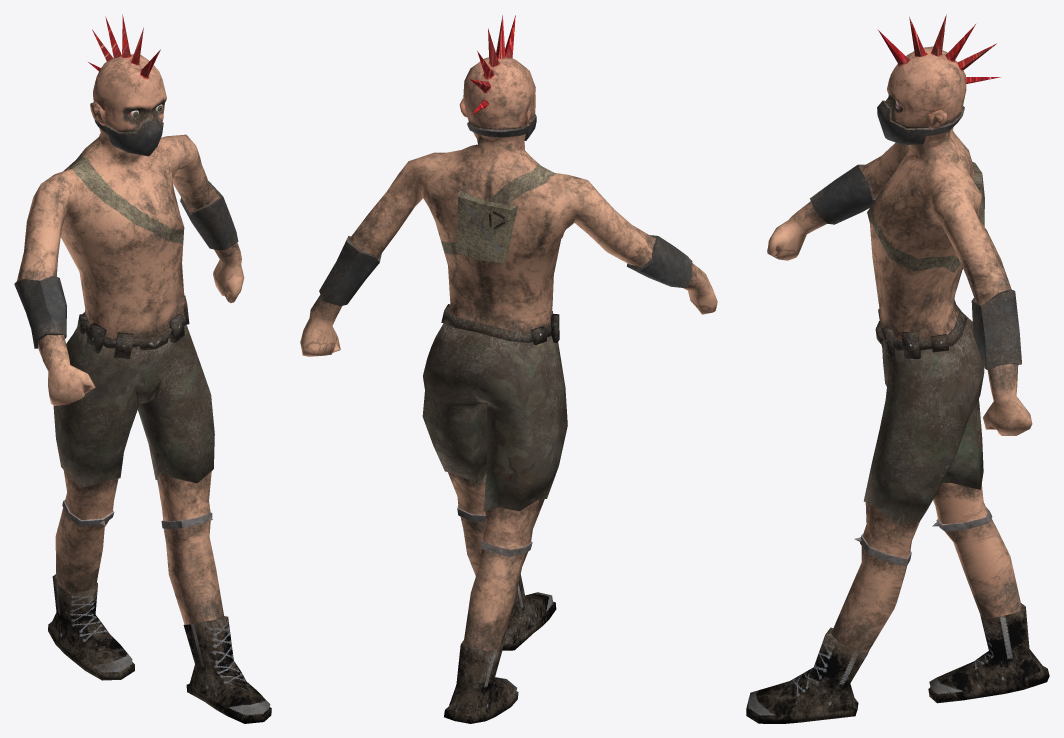
File: Anim_andar_npc2.0033.obj
3 renders of one model, left to right at view 1: azimuth 30°, elevation 25°; view 2: azimuth 150°, elevation 25°; view 3: azimuth 270°, elevation 25°, orthographic. The views are drawn at different scales.
Visible parts, largest first — view 1: Anim_andar_npc2; view 2: Anim_andar_npc2; view 3: Anim_andar_npc2.
Part boxes in pixels (<box>): Anim_andar_npc2: <box>14,14,271,723</box>; Anim_andar_npc2: <box>300,15,717,723</box>; Anim_andar_npc2: <box>746,14,1049,723</box>.
Bounding box in the file's own units: 4.79 × 10.16 × 4.06.
